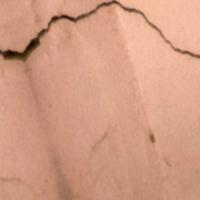crack: (0, 0, 199, 82)
